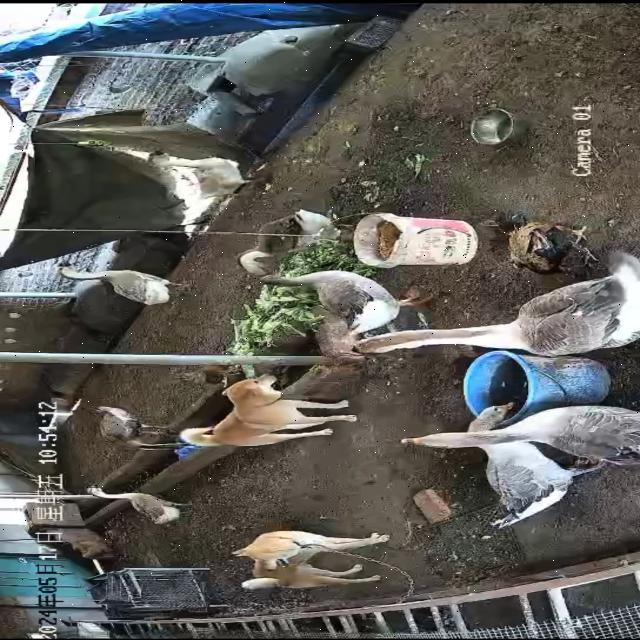dog: (180, 374, 358, 448), (233, 526, 396, 592)
